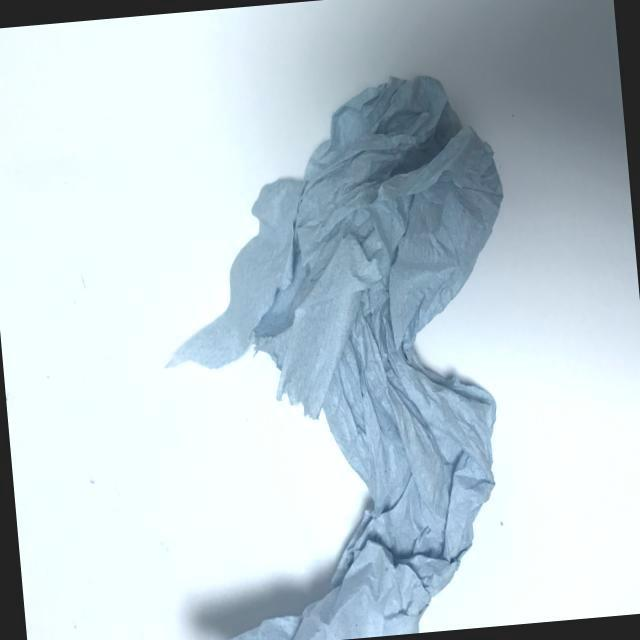paper: (133, 58, 546, 640)
